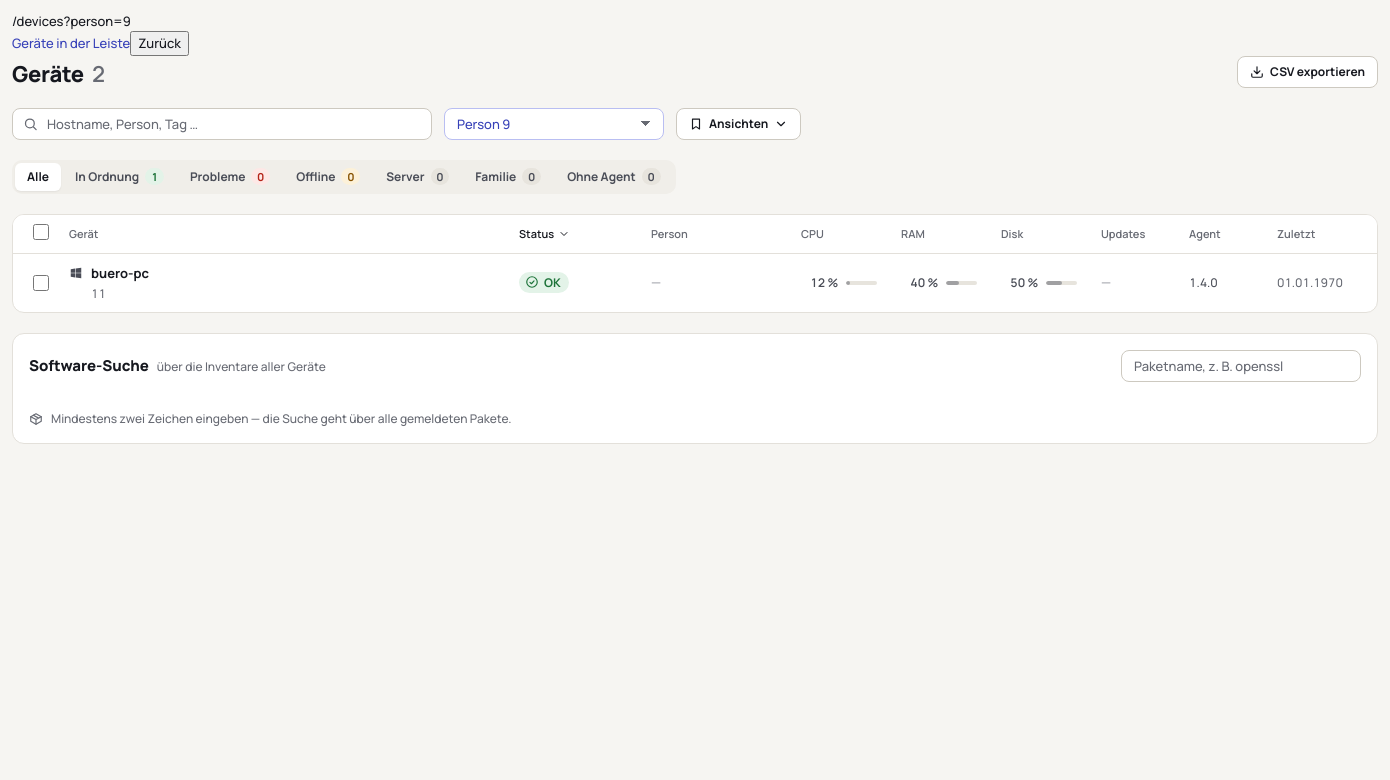
Test: DevicesPage Suche und Person › hält den Personenfilter, solange die Personen fehlen
expect the dropdown named "Nach Person filtern" shows "Person 9": met, box [444, 108, 664, 140]
What coordinates should you click on to do the following:
click the checkbox named "Alle Geräte dieser Seite auswählen"
I would click on:
 (41, 232)
Its box is [33, 224, 49, 240].
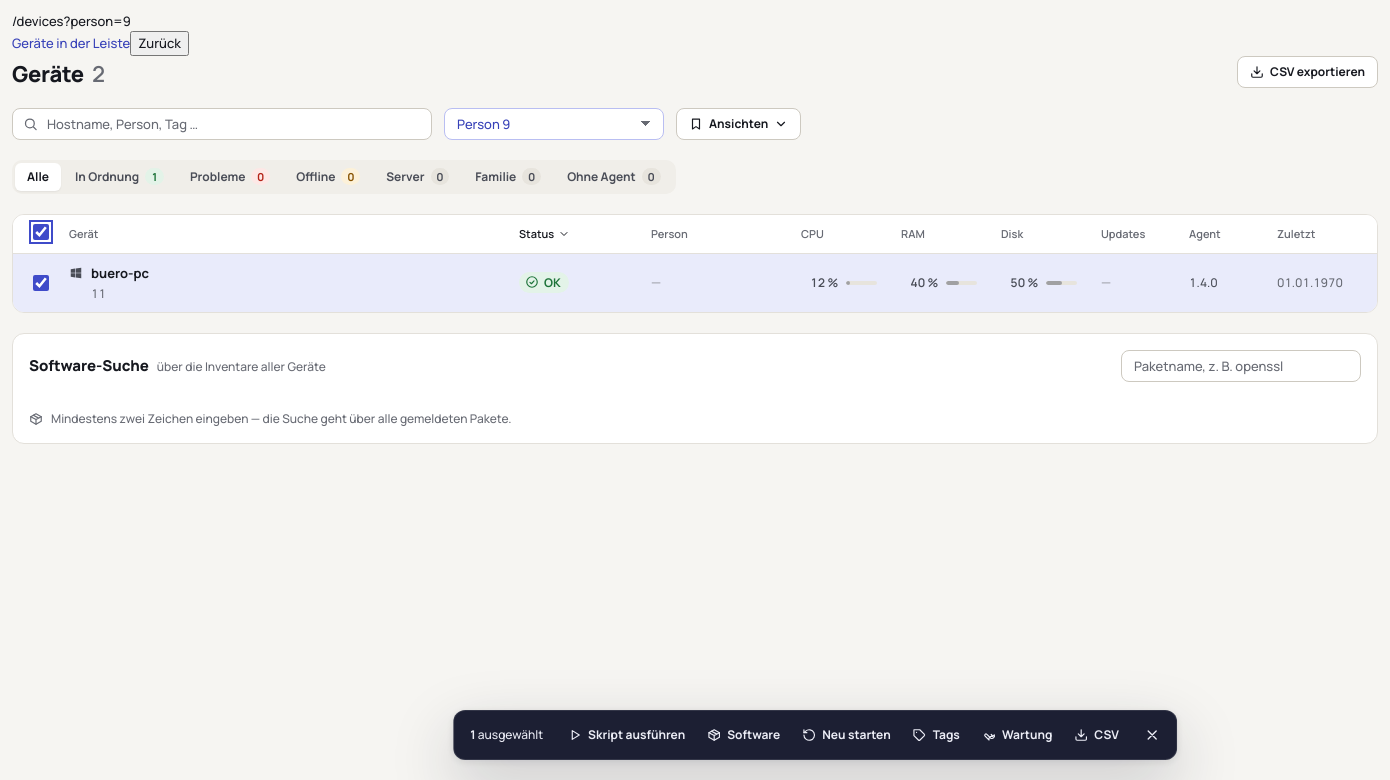
expect the element named "Auswahl" shows "1 ausgewählt": met, box [453, 710, 1177, 760]
